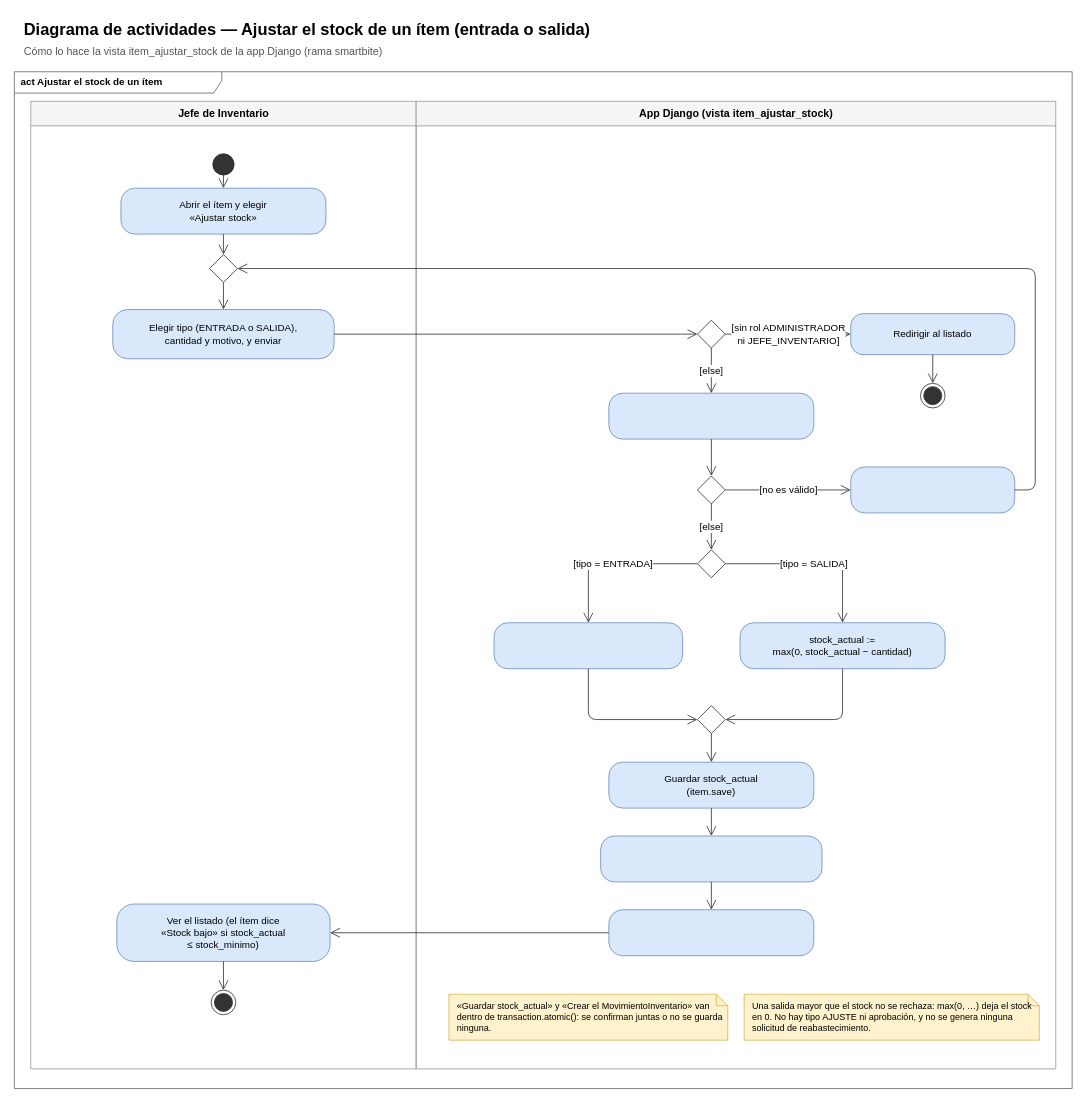
The diagram is 1087 pixels wide and 1103 high, and some of its shapes have lost their labels. Here are the shapes that lost their labels. From the top down, the centre of each, then its label:
At point 711,415: "Validar el formulario (AjusteStockForm)".
At point 932,489: "Mostrar el formulario con los errores".
At point 588,645: "stock_actual := stock_actual + cantidad".
At point 711,858: "Crear el MovimientoInventario (tipo, cantidad, motivo)".
At point 711,932: "Redirigir al listado de inventario".
